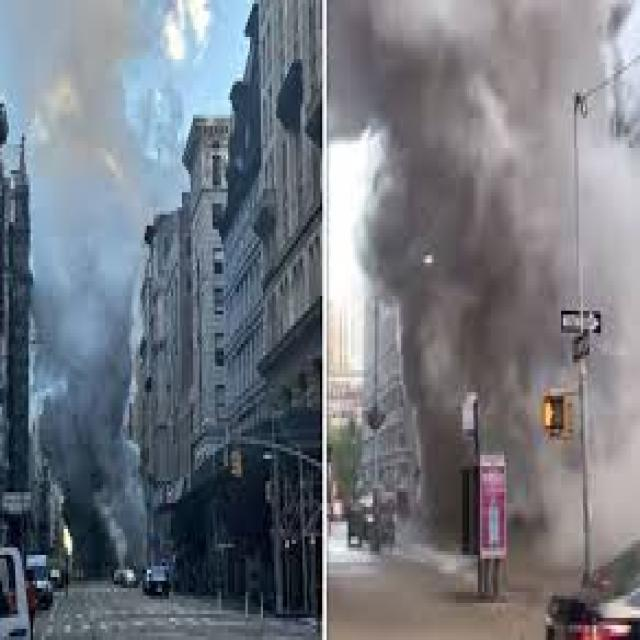Smoke: (338, 3, 534, 427), (48, 262, 143, 547), (38, 9, 135, 230), (529, 476, 575, 567)
